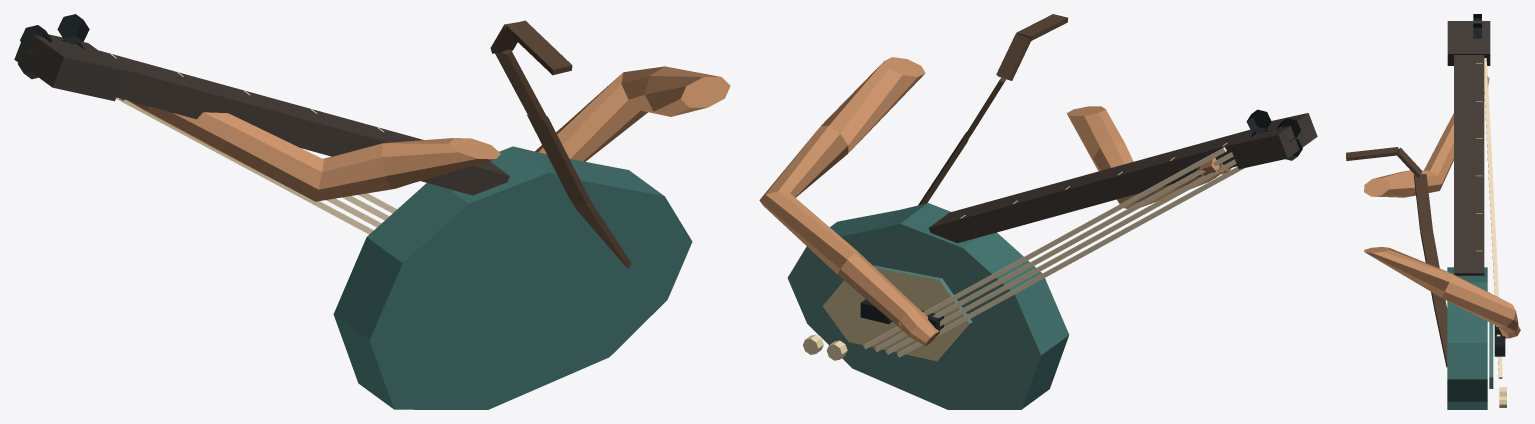
Rendered from lwf_bassist_male_kit_v1.glb.
3 renders of one model, left to right at view 1: azimuth 30°, elevation 25°; view 2: azimuth 150°, elevation 25°; view 3: azimuth 270°, elevation 25°, orthographic. The views are drawn at different scales.
Parts seen in each view (by area): view 1: LWF_Bassist_SolidBass, LWF_Bassist_LeftPlayingArm, LWF_Bassist_RightPlayingArm, LWF_Fitted_LeatherStrap; view 2: LWF_Bassist_SolidBass, LWF_Bassist_RightPlayingArm, LWF_Bassist_LeftPlayingArm, LWF_Fitted_LeatherStrap; view 3: LWF_Bassist_SolidBass, LWF_Bassist_RightPlayingArm, LWF_Fitted_LeatherStrap, LWF_Bassist_LeftPlayingArm.
Part boxes in pixels (left/top/right/bottom): LWF_Bassist_SolidBass: left=14, top=14, right=692, bottom=409; LWF_Bassist_LeftPlayingArm: left=119, top=98, right=500, bottom=201; LWF_Bassist_RightPlayingArm: left=535, top=66, right=730, bottom=161; LWF_Fitted_LeatherStrap: left=490, top=20, right=631, bottom=268; LWF_Bassist_SolidBass: left=787, top=109, right=1317, bottom=409; LWF_Bassist_RightPlayingArm: left=759, top=57, right=938, bottom=345; LWF_Bassist_LeftPlayingArm: left=1067, top=106, right=1231, bottom=208; LWF_Fitted_LeatherStrap: left=918, top=14, right=1068, bottom=205; LWF_Bassist_SolidBass: left=1447, top=14, right=1506, bottom=409; LWF_Bassist_RightPlayingArm: left=1364, top=247, right=1520, bottom=338; LWF_Fitted_LeatherStrap: left=1346, top=147, right=1447, bottom=367; LWF_Bassist_LeftPlayingArm: left=1364, top=76, right=1489, bottom=197.
Bounding box in the file's own units: 1.19 × 0.8071 × 0.4926.
Materials: 3 (3 with a texture image).
